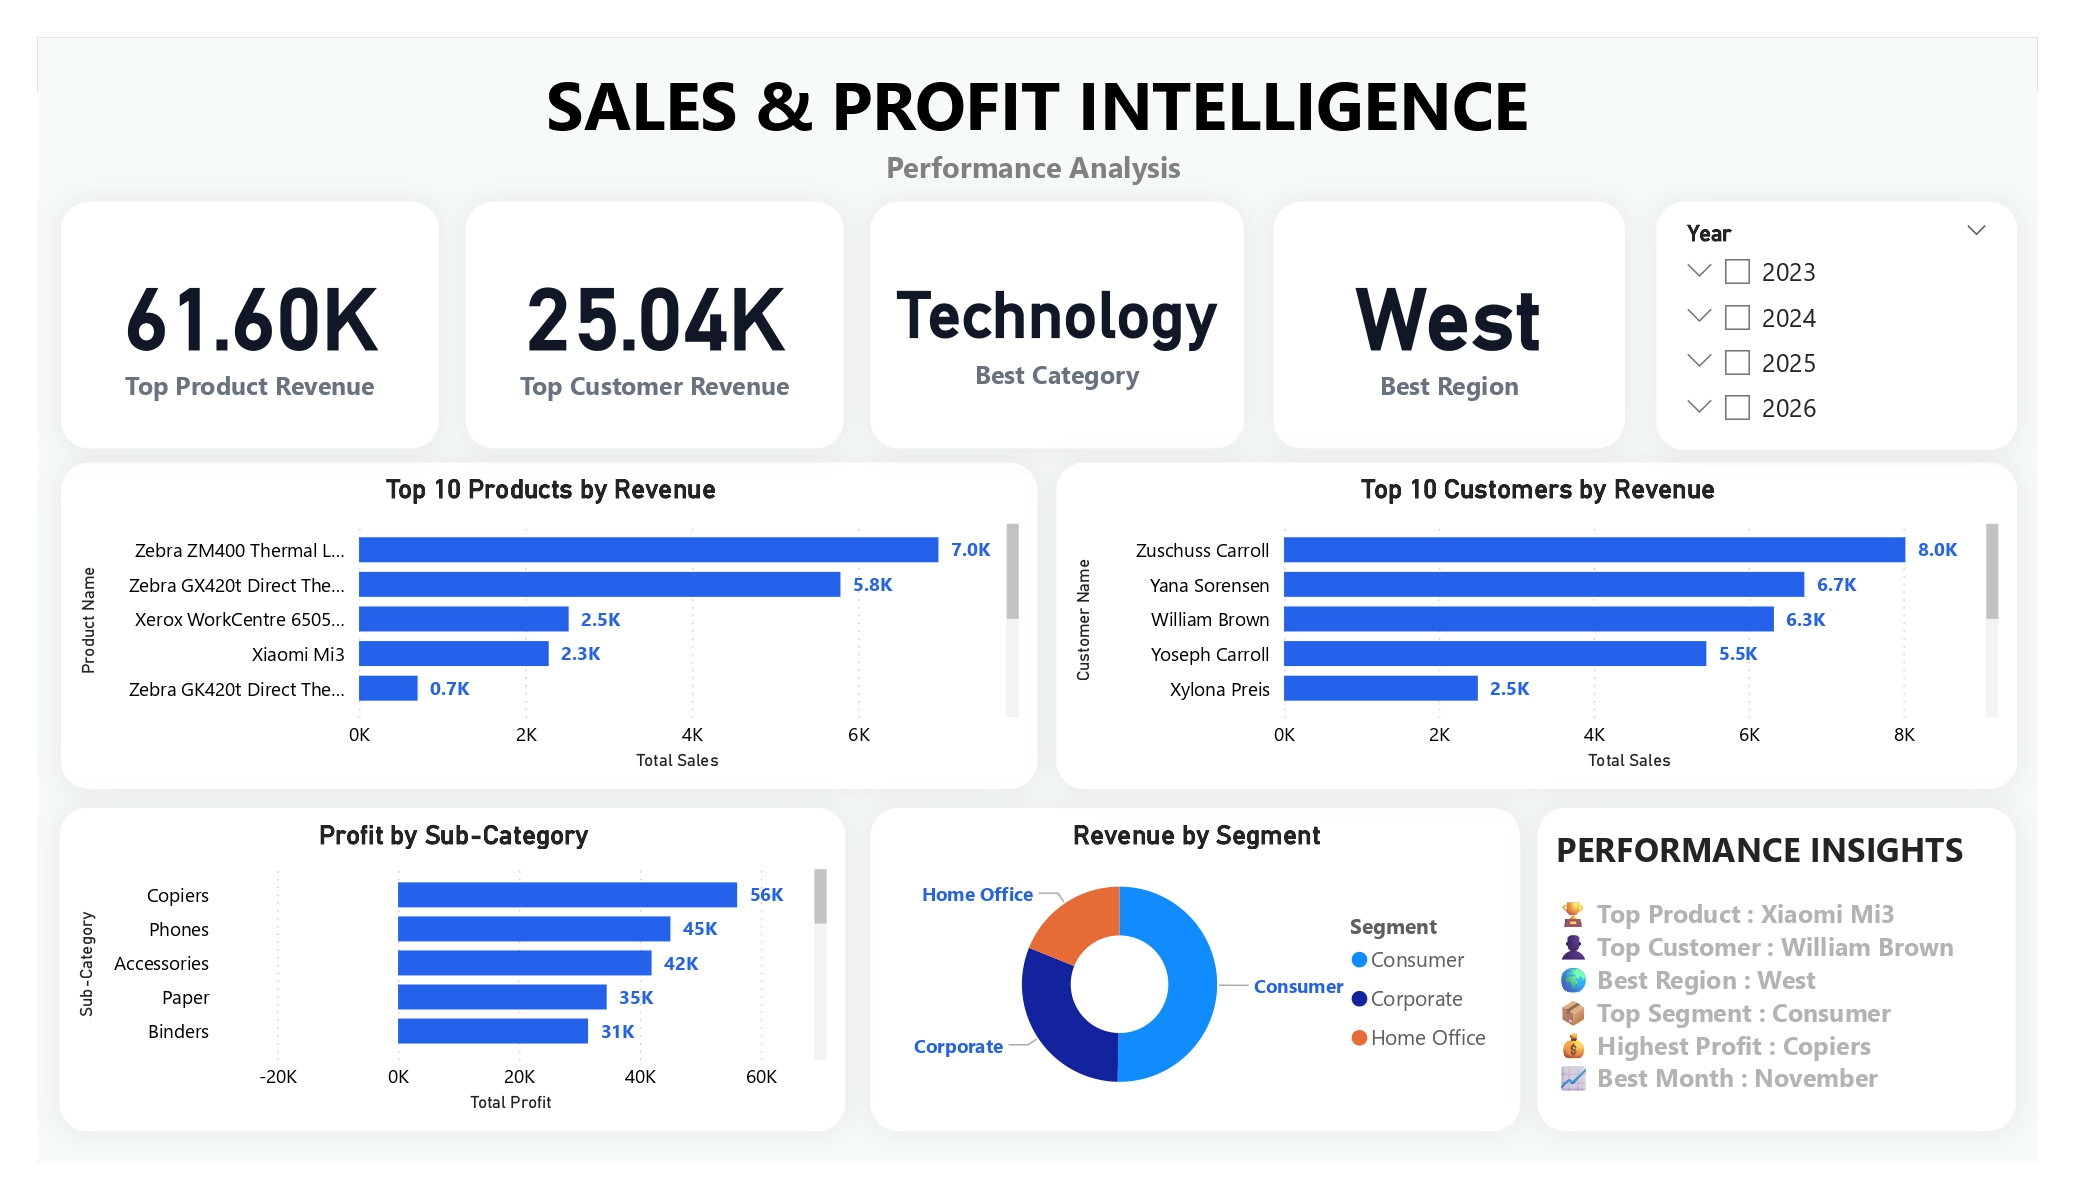

The dashboard page shown, as its layout file describes it:
{"tool":"powerbi","page":{"name":"Performance","canvas":[1280,720],"ordinal":1},"visuals":[{"type":"barChart","title":"Top 10 Products by Revenue","fields":{"Category":["Sheet1.Product Name"],"Y":["Sheet1.Total Sales"]},"box":[15.1,272.1,624.4,209.3],"z":0},{"type":"donutChart","title":"Revenue by Segment","fields":{"Category":["Sheet1.Segment"],"Y":["Sheet1.Total Sales"]},"box":[532.6,493,416.3,207],"z":1000},{"type":"textbox","box":[0,8.5,1280.2,166.3],"z":2000},{"type":"card","fields":{"Values":["Sheet1.Total Product Revenue"]},"box":[15.1,104.7,241.9,158.1],"z":3000},{"type":"card","fields":{"Values":["Sheet1.Total Customer Revenue"]},"box":[274.4,104.7,241.9,158.1],"z":4000},{"type":"card","fields":{"Values":["Sheet1.Best Category"]},"box":[532.6,104.7,239.5,158.1],"z":5000},{"type":"card","fields":{"Values":["Sheet1.Best Region"]},"box":[790.7,104.7,225.6,158.1],"z":6000},{"type":"barChart","title":"Top 10 Customers by Revenue","fields":{"Y":["Sheet1.Total Sales"],"Category":["Sheet1.Customer Name"]},"box":[652.3,272.1,615.1,209.3],"z":7000},{"type":"barChart","title":"Profit by Sub-Category","fields":{"Y":["Sheet1.Total Profit"],"Category":["Sheet1.Sub-Category"]},"box":[14,493,503.5,207],"z":8000},{"type":"textbox","box":[960.5,493,305.8,207],"z":9000},{"type":"slicer","fields":{"Values":["Sheet1.Year","Sheet1.Region","Sheet1.Category","Sheet1.Segment"]},"box":[1036,104.7,231.4,159.3],"z":10000}]}

Visuals, with their boxes on the page's 1280x720 design canvas (x1, y1, x2, y2). These are canvas units, not pixel positions in the 2075x1200 screenshot, which may show the page scaled, cropped or inside an application window:
"Top 10 Products by Revenue" barChart: [x1=15, y1=272, x2=640, y2=481]
"Revenue by Segment" donutChart: [x1=533, y1=493, x2=949, y2=700]
textbox: [x1=0, y1=8, x2=1280, y2=175]
card - Sheet1.Total Product Revenue: [x1=15, y1=105, x2=257, y2=263]
card - Sheet1.Total Customer Revenue: [x1=274, y1=105, x2=516, y2=263]
card - Sheet1.Best Category: [x1=533, y1=105, x2=772, y2=263]
card - Sheet1.Best Region: [x1=791, y1=105, x2=1016, y2=263]
"Top 10 Customers by Revenue" barChart: [x1=652, y1=272, x2=1267, y2=481]
"Profit by Sub-Category" barChart: [x1=14, y1=493, x2=518, y2=700]
textbox: [x1=960, y1=493, x2=1266, y2=700]
slicer - Sheet1.Year x Sheet1.Region: [x1=1036, y1=105, x2=1267, y2=264]
